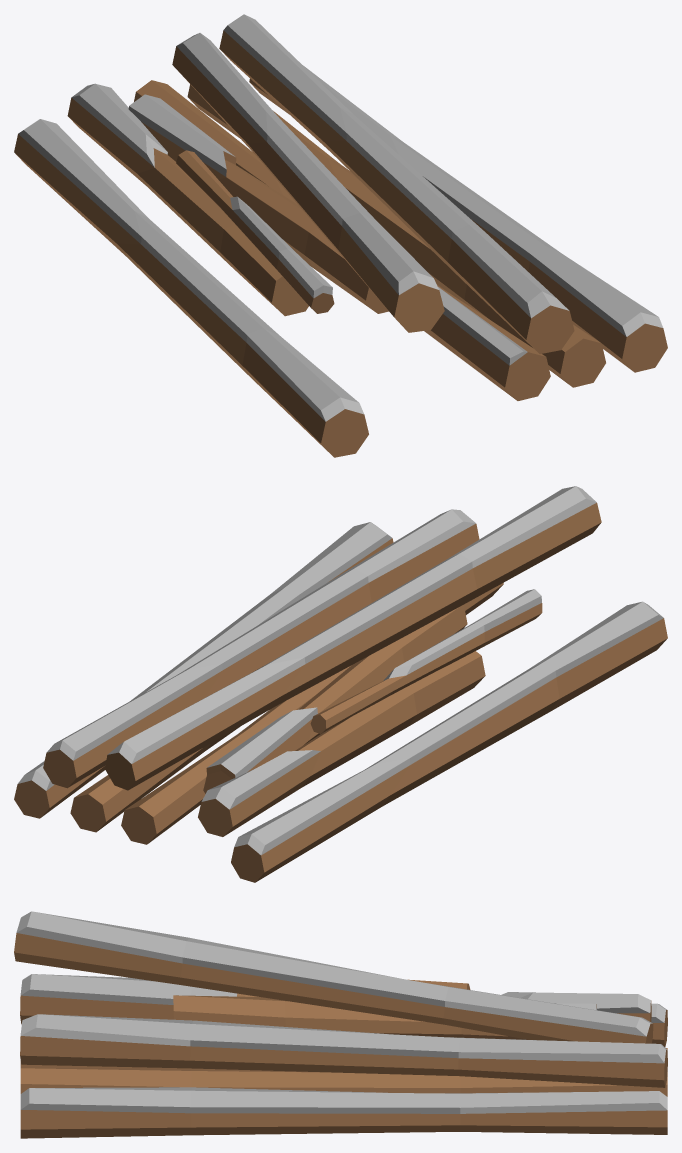
File: Woodpile_1 Winter.fbx
3 renders of one model, top to bottom at view 1: azimuth 30°, elevation 25°; view 2: azimuth 150°, elevation 25°; view 3: azimuth 270°, elevation 25°, orthographic. The views are drawn at different scales.
Visible parts, largest first — view 1: WoodpileWinter_mesh; view 2: WoodpileWinter_mesh; view 3: WoodpileWinter_mesh.
Boxes of the visible parts, left/top/right/bottom form: WoodpileWinter_mesh: left=14, top=14, right=667, bottom=457; WoodpileWinter_mesh: left=14, top=486, right=667, bottom=882; WoodpileWinter_mesh: left=14, top=911, right=667, bottom=1138.
Size of the model in its own units: 74.14 by 33.41 by 142.
